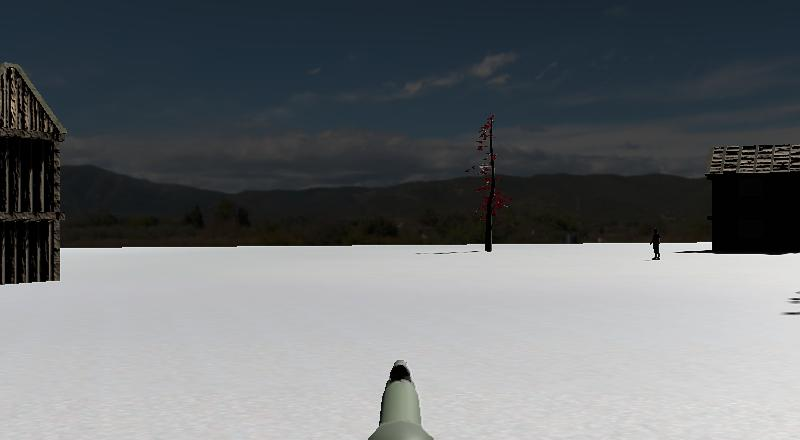House: (0, 11, 100, 321), (0, 19, 95, 311), (689, 122, 800, 274)
